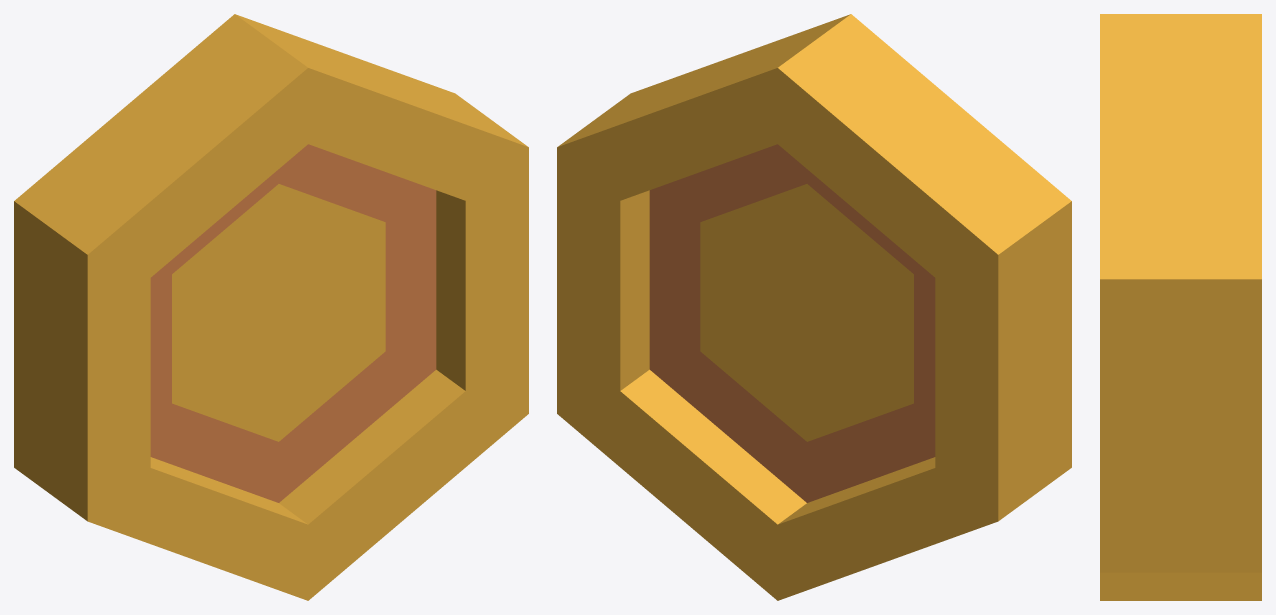
File: coinGold.fbx
3 renders of one model, left to right at view 1: azimuth 30°, elevation 25°; view 2: azimuth 150°, elevation 25°; view 3: azimuth 270°, elevation 25°, orthographic. The views are drawn at different scales.
Visible parts, largest first — view 1: coinGold; view 2: coinGold; view 3: coinGold.
Part boxes in pixels (left/top/right/bottom): coinGold: left=14, top=14, right=528, bottom=600; coinGold: left=557, top=14, right=1071, bottom=600; coinGold: left=1100, top=14, right=1261, bottom=600.
Size of the model in its own units: 3.46 by 4 by 1.
